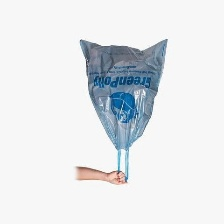plastic_bag: (69, 30, 175, 186)
